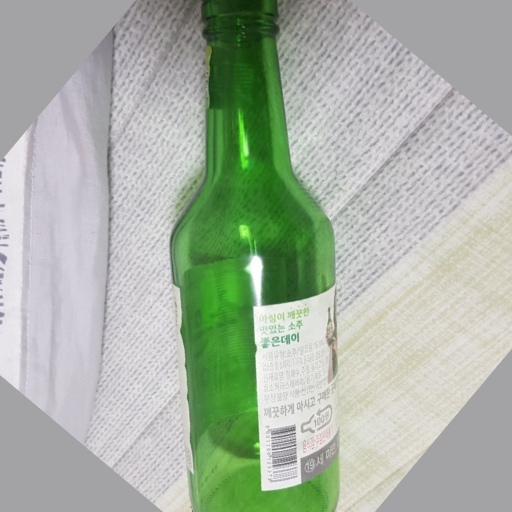Glass_0: (169, 1, 346, 512)
